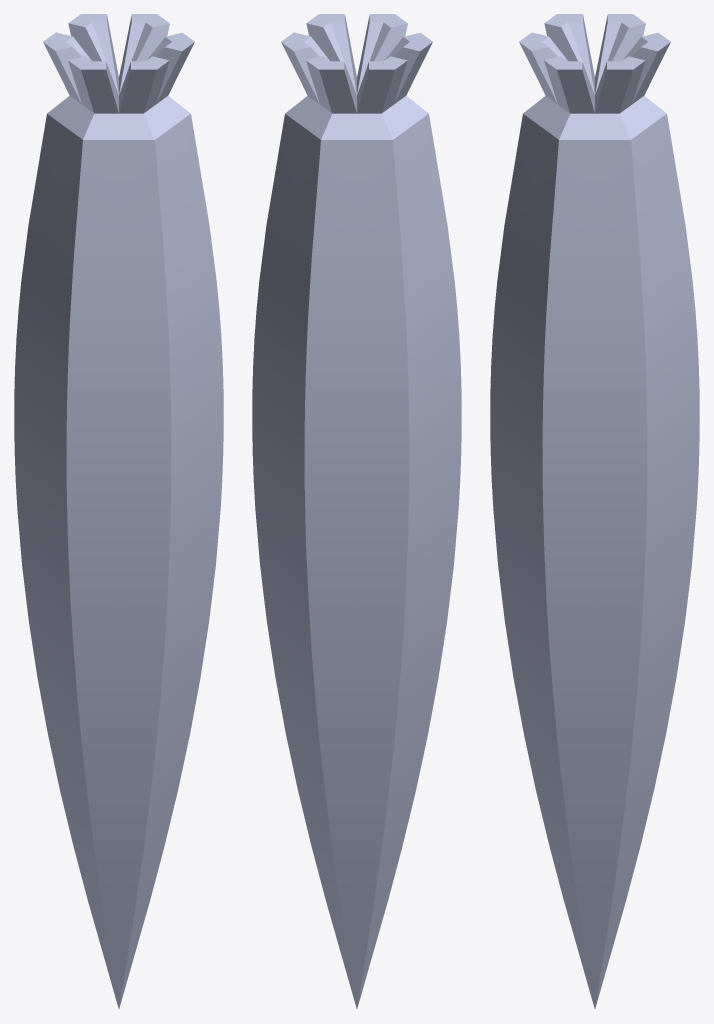
Rendered from Carrot.FBX.
The picture shows the model from 3 angles, left to right: view 1: azimuth 30°, elevation 25°; view 2: azimuth 150°, elevation 25°; view 3: azimuth 270°, elevation 25°; orthographic projection.
Visible parts, largest first — view 1: CirPattern1; view 2: CirPattern1; view 3: CirPattern1.
Part boxes in pixels (x1,y1,x2,y2): CirPattern1: (14,14,223,1008); CirPattern1: (252,14,461,1008); CirPattern1: (490,14,699,1008).
Bounding box in the file's own units: 0.9176 × 5.4 × 1.06.
